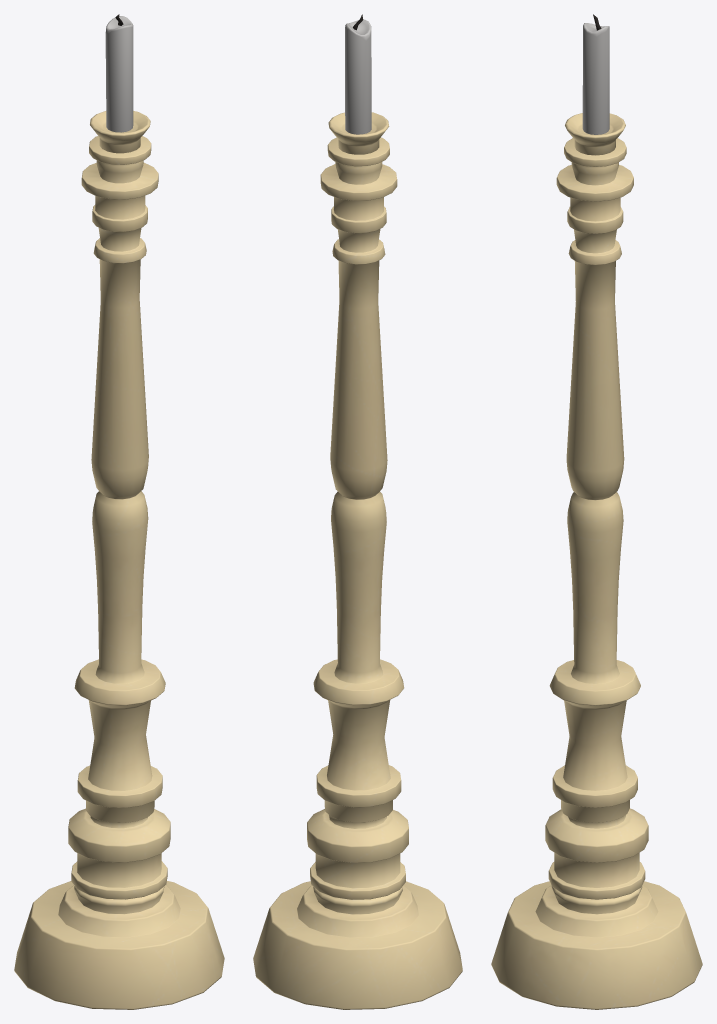
Rendered from CandleStand_B.fbx.
3 views of the same model, side by side, from view 1: azimuth 30°, elevation 25°; view 2: azimuth 150°, elevation 25°; view 3: azimuth 270°, elevation 25° (orthographic).
Parts seen in each view (by area): view 1: CandleStand_B; view 2: CandleStand_B; view 3: CandleStand_B.
Boxes of the visible parts, x1=… form: CandleStand_B: x1=14, y1=14, x2=224, y2=1009; CandleStand_B: x1=253, y1=14, x2=462, y2=1009; CandleStand_B: x1=491, y1=14, x2=702, y2=1009.
Size of the model in its own units: 0.5996 by 2.98 by 0.5996.
